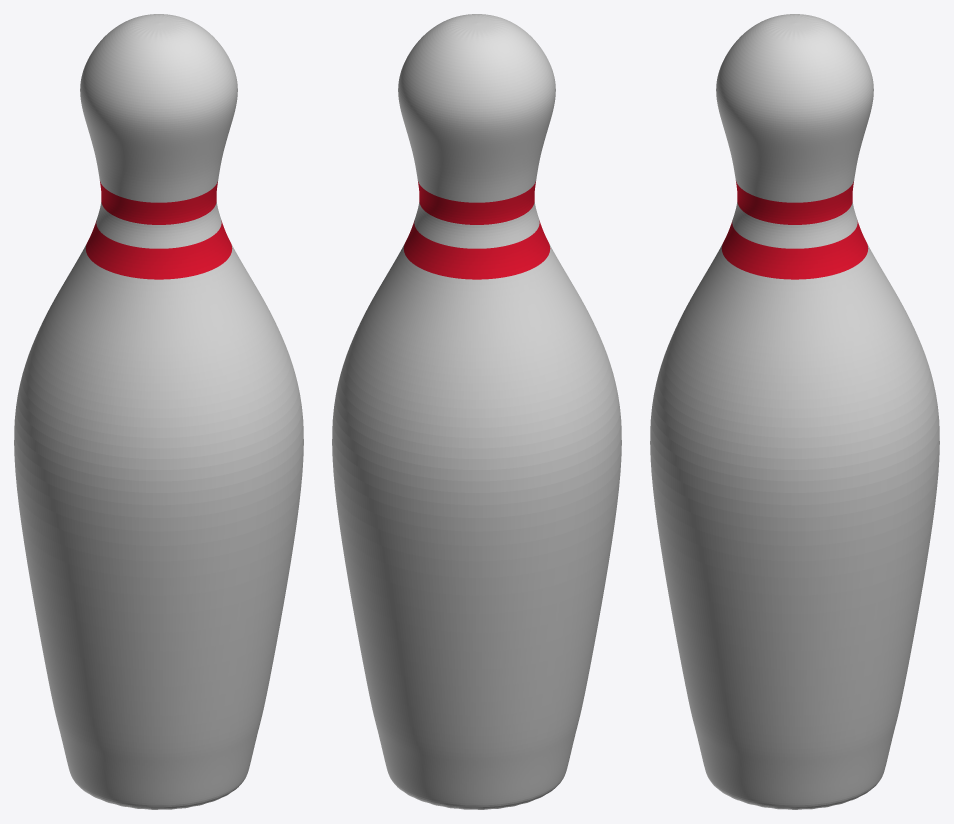
The model's file is bowlingpin.fbx.
3 renders of one model, left to right at view 1: azimuth 30°, elevation 25°; view 2: azimuth 150°, elevation 25°; view 3: azimuth 270°, elevation 25°, orthographic.
Parts seen in each view (by area): view 1: Cylinder; view 2: Cylinder; view 3: Cylinder.
Part boxes in pixels (left/top/right/bottom): Cylinder: left=14, top=14, right=303, bottom=809; Cylinder: left=332, top=14, right=621, bottom=809; Cylinder: left=650, top=14, right=939, bottom=809.
Bounding box in the file's own units: 13.74 × 39.66 × 13.74.
